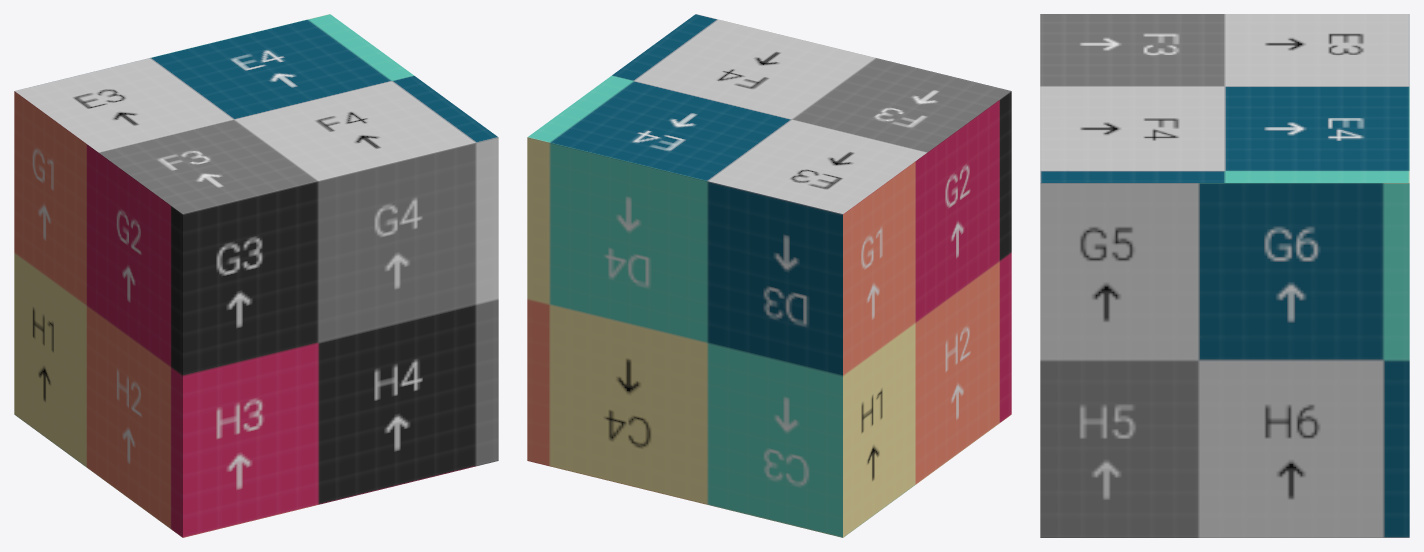
The model's file is UVcheck.fbx.
3 views of the same model, side by side, from view 1: azimuth 30°, elevation 25°; view 2: azimuth 150°, elevation 25°; view 3: azimuth 270°, elevation 25° (orthographic). The views are drawn at different scales.
Visible parts, largest first — view 1: pCube1; view 2: pCube1; view 3: pCube1.
Part boxes in pixels (bbox=[...]): pCube1: bbox=[14, 14, 498, 537]; pCube1: bbox=[527, 14, 1011, 537]; pCube1: bbox=[1040, 14, 1409, 537].
Size of the model in its own units: 0.0406 by 0.0398 by 0.0376.
Materials: 1 (1 with a texture image).
